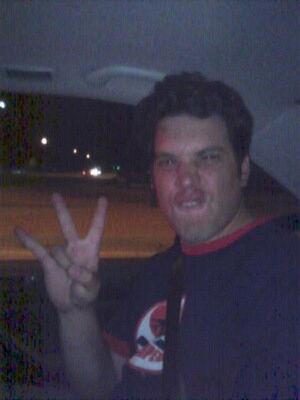person: (13, 70, 300, 400)
